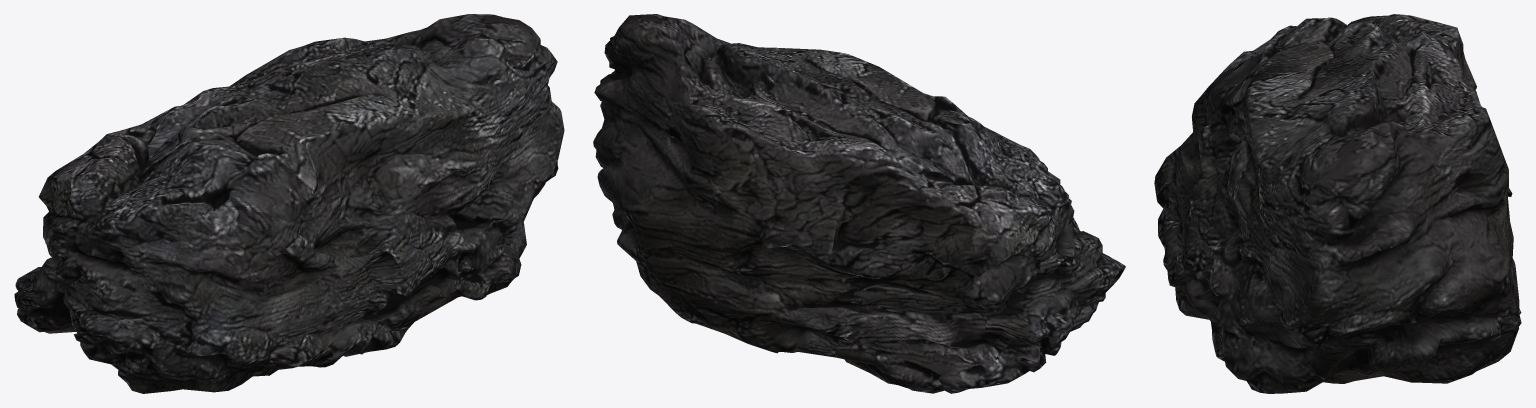
The model's file is rock-lod.glb.
3 renders of one model, left to right at view 1: azimuth 30°, elevation 25°; view 2: azimuth 150°, elevation 25°; view 3: azimuth 270°, elevation 25°, orthographic. The views are drawn at different scales.
Visible parts, largest first — view 1: model; view 2: model; view 3: model.
Part boxes in pixels (left/top/right/bottom): model: left=14, top=14, right=564, bottom=393; model: left=593, top=14, right=1125, bottom=393; model: left=1154, top=14, right=1521, bottom=393.
Size of the model in its own units: 1.89 by 0.9375 by 1.03.
Materials: 1 (1 with a texture image).
